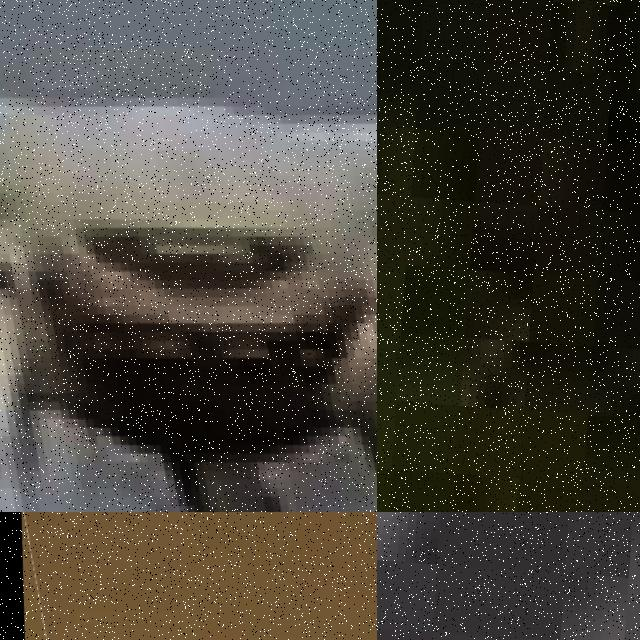drone: (0, 0, 377, 512), (0, 512, 377, 640)
